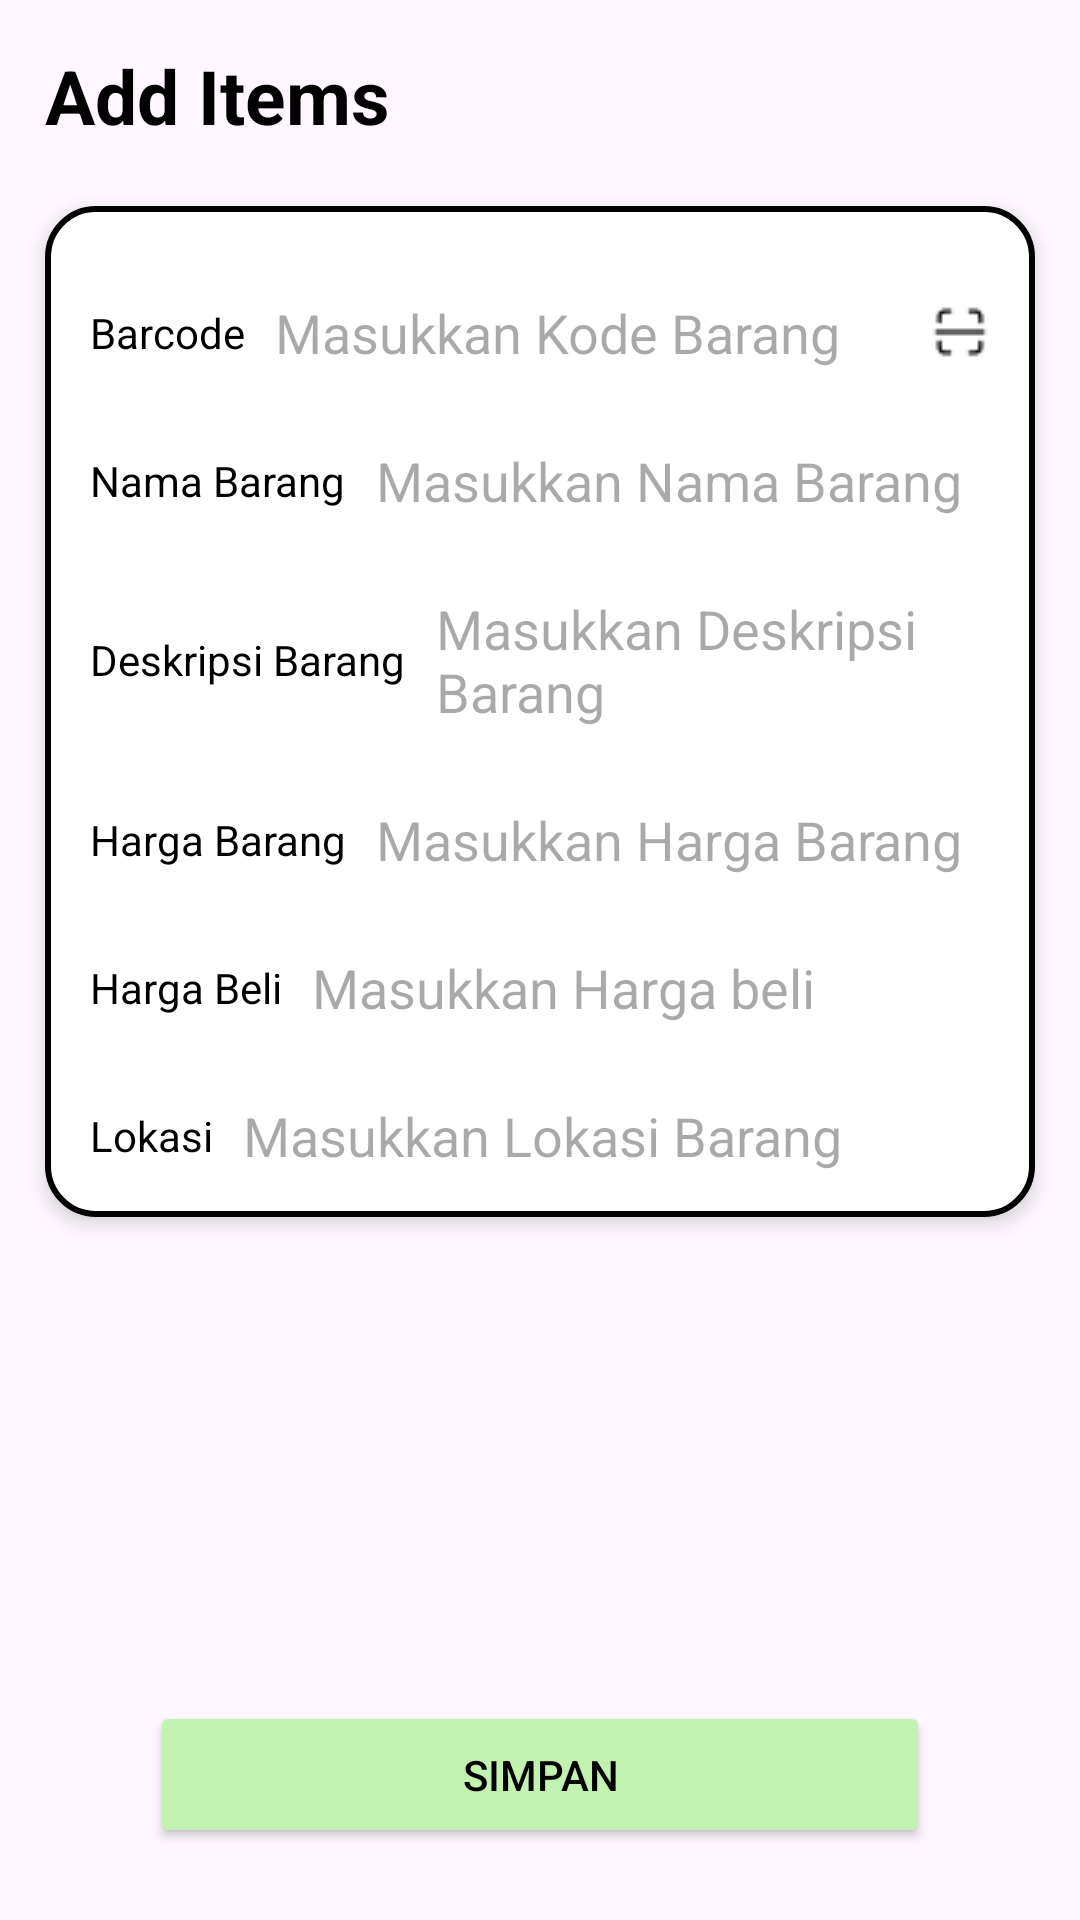

Icon bounding boxes for this 1080px×1920px phone screenshot, format (x1, y1, x2, y2):
scan qr: (934, 307, 986, 357)
